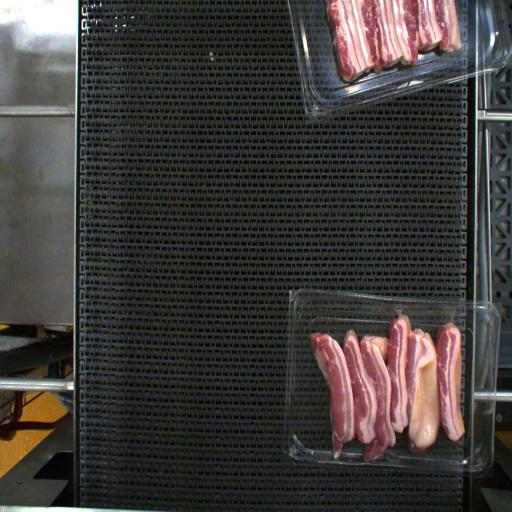packaging-error: (444, 300, 460, 328), (393, 300, 408, 318)
twisted-meat: (405, 327, 435, 456)
